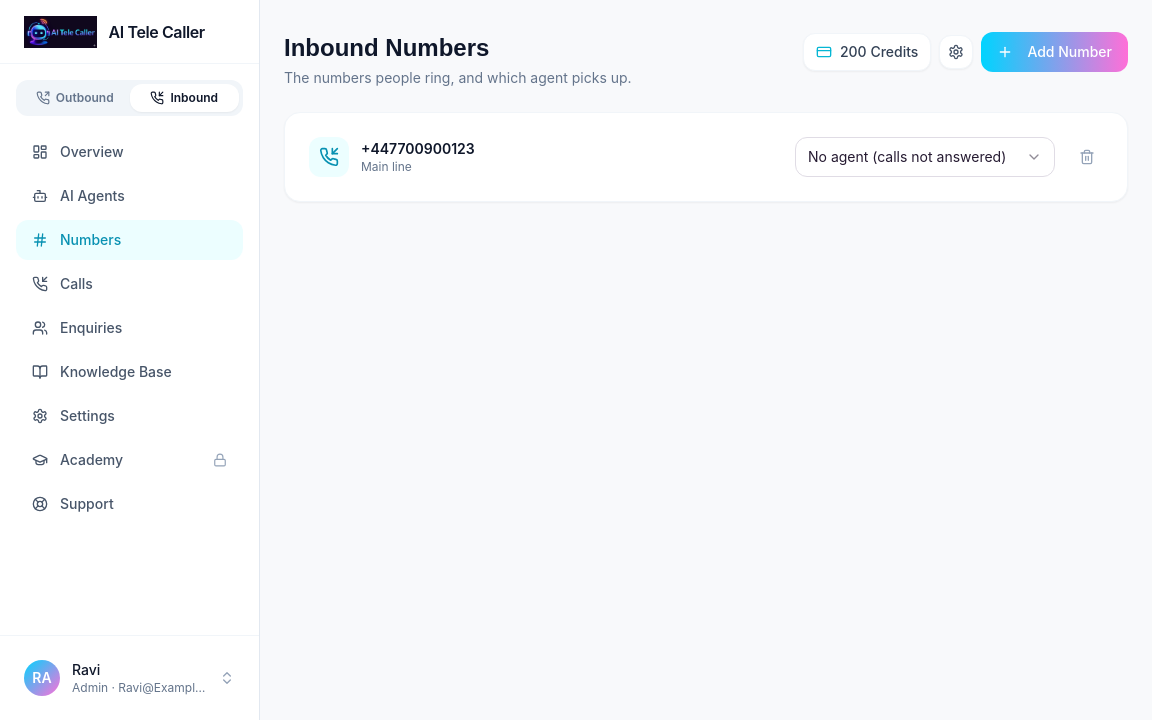
Test: the Add Number dialog › opens on Add Number
Click the button "Add Number". click: click(1055, 52)
box: [981, 32, 1128, 72]
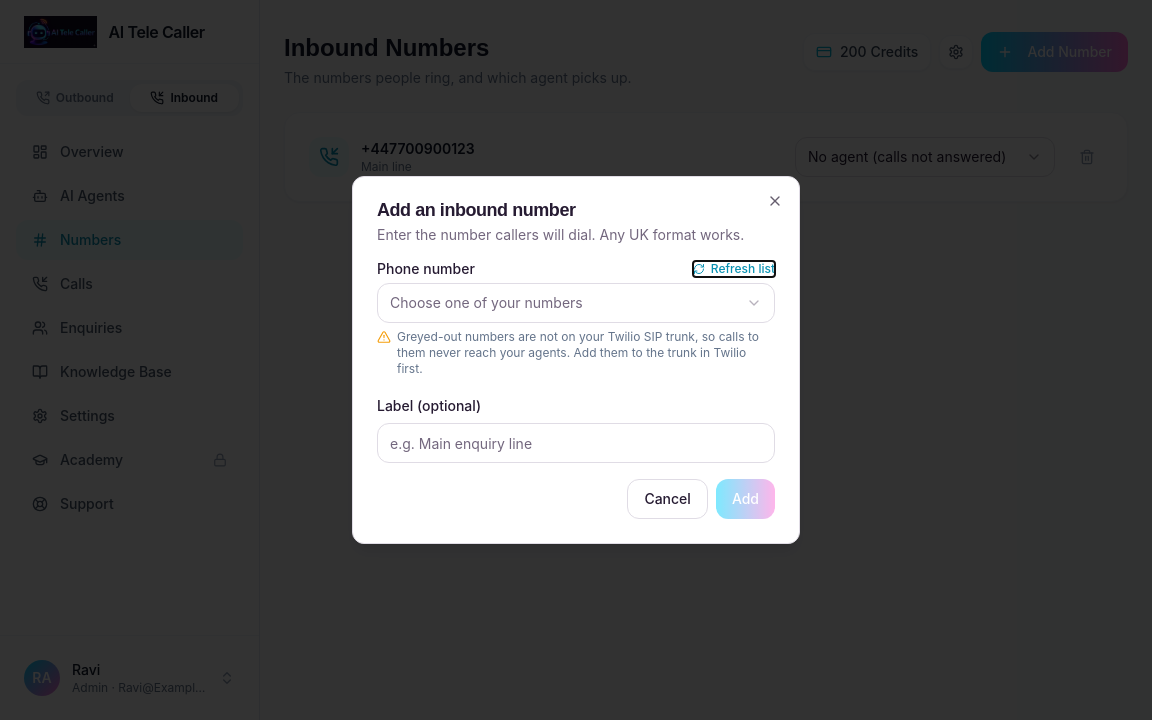
Expected: the dialog is shown, [352, 176, 800, 544]
Expected: the field labelled "Label (optional)" is shown, [377, 423, 775, 463]
